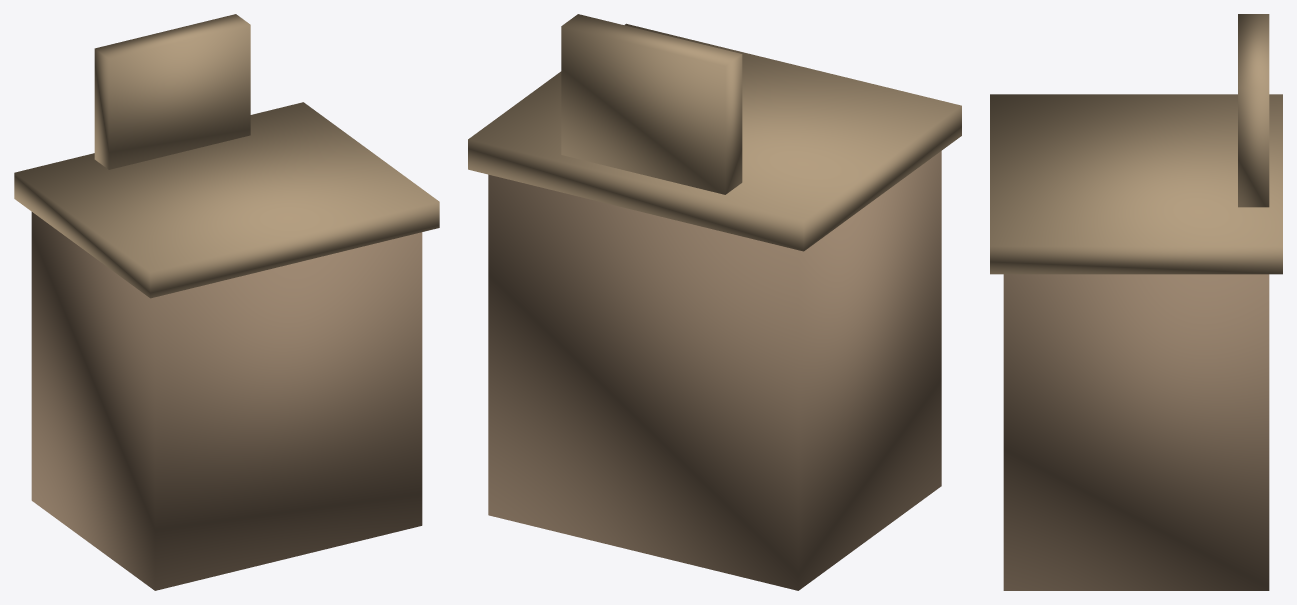
The model's file is witness_stand__reinforced.glb.
3 views of the same model, side by side, from view 1: azimuth 30°, elevation 25°; view 2: azimuth 150°, elevation 25°; view 3: azimuth 270°, elevation 25° (orthographic). The views are drawn at different scales.
Visible parts, largest first — view 1: world; view 2: world; view 3: world.
Boxes of the visible parts, x1=… form: world: x1=14, y1=14, x2=439, y2=590; world: x1=468, y1=14, x2=961, y2=590; world: x1=990, y1=14, x2=1282, y2=590.
Size of the model in its own units: 0.9476 by 1.37 by 0.7725.
